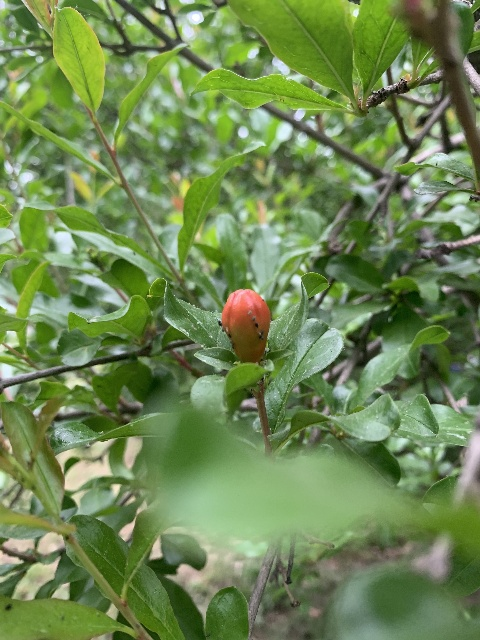bud: (221, 288, 270, 363)
